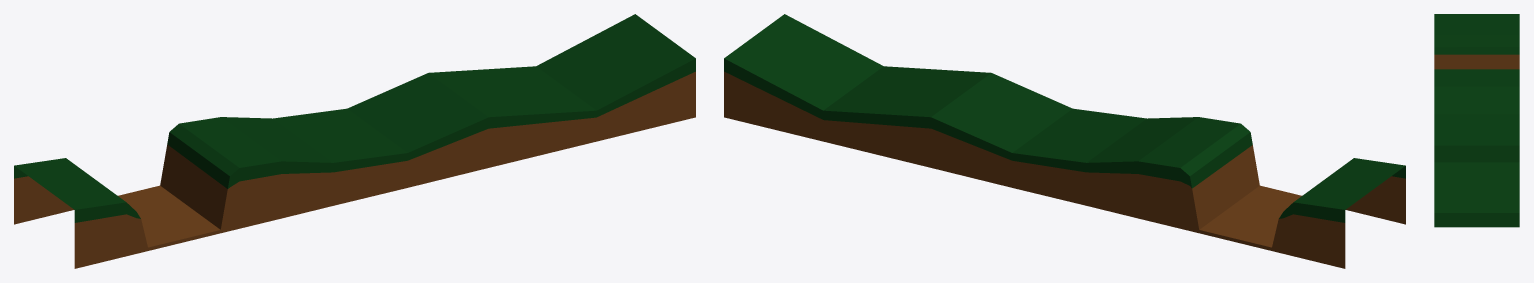
The model's file is terreno3.fbx.
The picture shows the model from 3 angles, left to right: view 1: azimuth 30°, elevation 25°; view 2: azimuth 150°, elevation 25°; view 3: azimuth 270°, elevation 25°; orthographic projection. The views are drawn at different scales.
Parts seen in each view (by area): view 1: terreno03; view 2: terreno03; view 3: terreno03.
Boxes of the visible parts, bbox=[...] form: terreno03: bbox=[14, 14, 695, 268]; terreno03: bbox=[724, 14, 1405, 268]; terreno03: bbox=[1434, 14, 1519, 227].
Size of the model in its own units: 2203 by 206 by 372.
